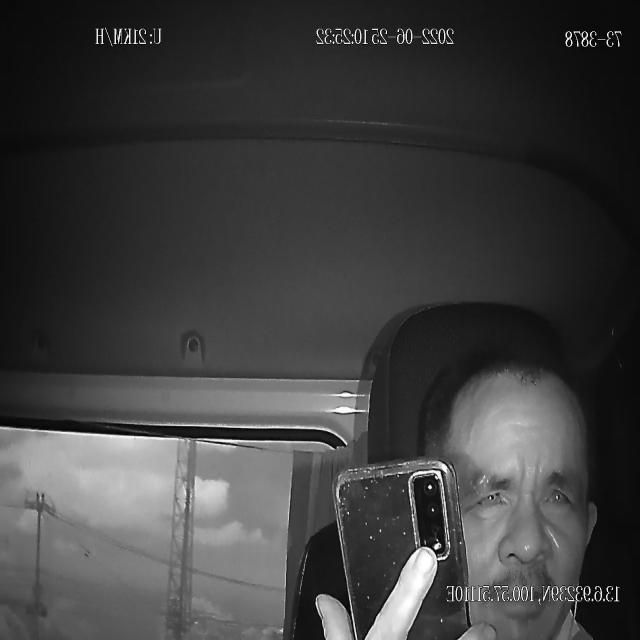phone: (333, 457, 472, 640)
